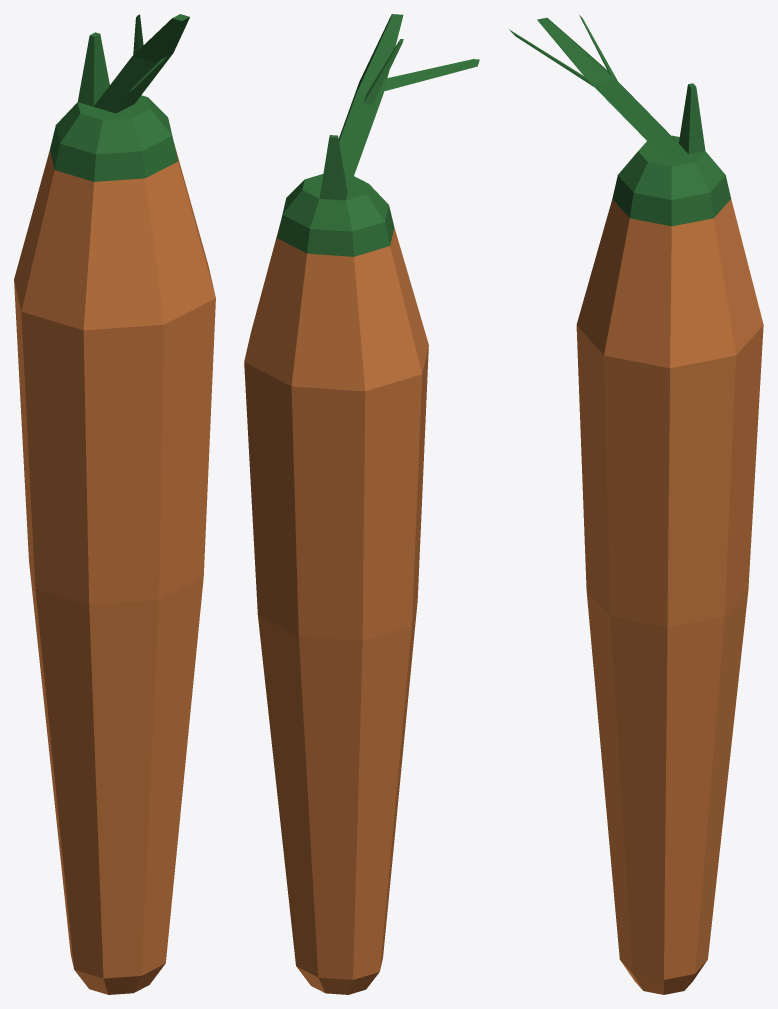
Rendered from Carrot.fbx.
3 renders of one model, left to right at view 1: azimuth 30°, elevation 25°; view 2: azimuth 150°, elevation 25°; view 3: azimuth 270°, elevation 25°, orthographic. The views are drawn at different scales.
Visible parts, largest first — view 1: Cylinder.001; view 2: Cylinder.001; view 3: Cylinder.001.
Part boxes in pixels (<box>): Cylinder.001: <box>14,14,215,994</box>; Cylinder.001: <box>244,14,479,994</box>; Cylinder.001: <box>509,15,763,994</box>.
Size of the model in its own units: 149 by 769 by 185.
